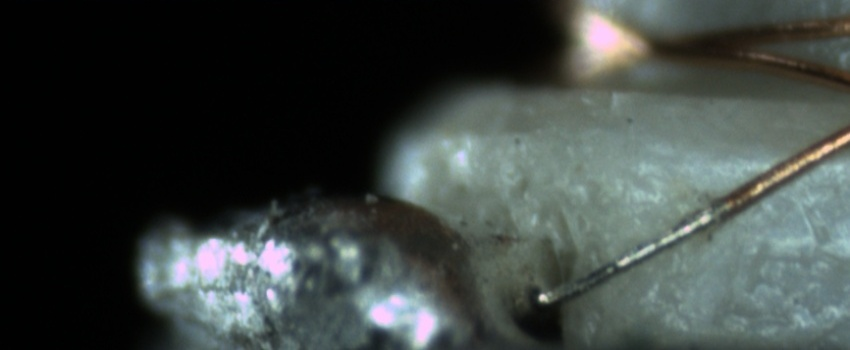DL: (680, 135, 850, 199), (701, 214, 850, 278)
TS: (535, 198, 729, 308)
TTCW: (529, 163, 783, 305)
